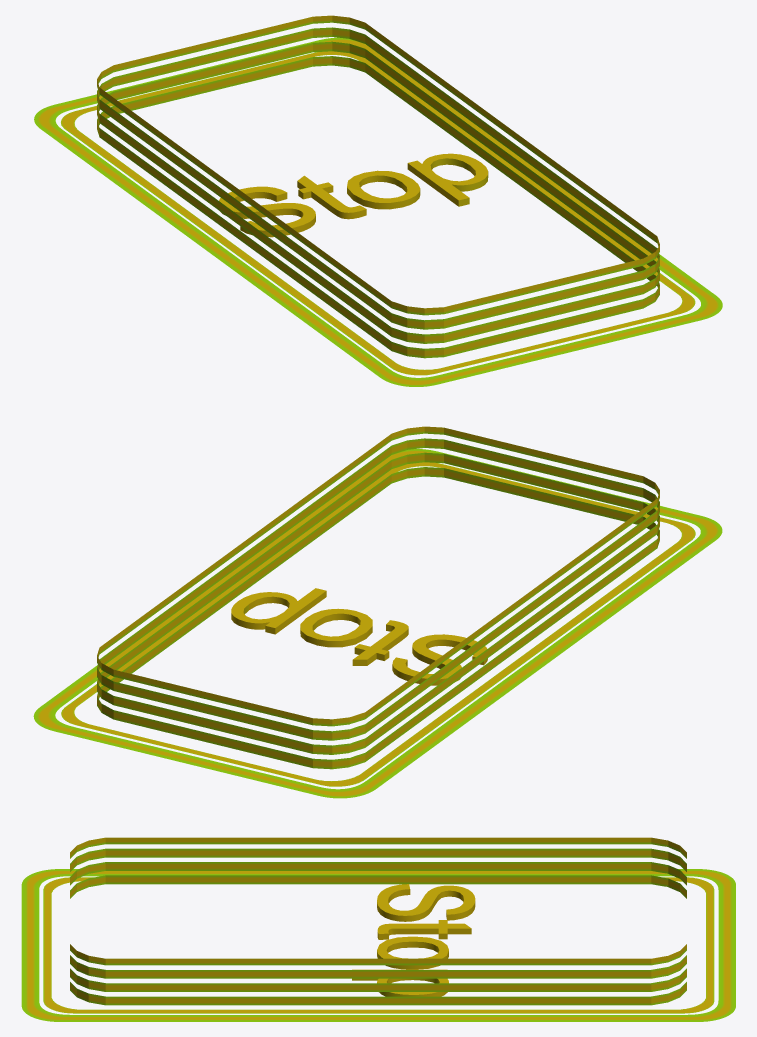
File: parking_lot.FBX
The picture shows the model from 3 angles, top to bottom: view 1: azimuth 30°, elevation 25°; view 2: azimuth 150°, elevation 25°; view 3: azimuth 270°, elevation 25°; orthographic projection. The views are drawn at different scales.
Visible parts, largest first — view 1: pasted__polySurface4, pasted__polySurface2, Text001, pasted__polySurface5; view 2: pasted__polySurface4, pasted__polySurface2, Text001, pasted__polySurface5; view 3: pasted__polySurface4, pasted__polySurface2, Text001.
Part boxes in pixels (left/top/right/bottom): pasted__polySurface4: left=97, top=15, right=659, bottom=358; pasted__polySurface2: left=34, top=37, right=722, bottom=386; Text001: left=219, top=153, right=488, bottom=237; pasted__polySurface5: left=103, top=16, right=659, bottom=357; pasted__polySurface4: left=97, top=426, right=659, bottom=769; pasted__polySurface2: left=33, top=449, right=722, bottom=798; Text001: left=231, top=588, right=487, bottom=685; pasted__polySurface5: left=97, top=426, right=654, bottom=761; pasted__polySurface4: left=70, top=837, right=686, bottom=1005; pasted__polySurface2: left=21, top=869, right=735, bottom=1021; Text001: left=352, top=884, right=475, bottom=996.
Size of the model in its own units: 125 by 18.26 by 249.
